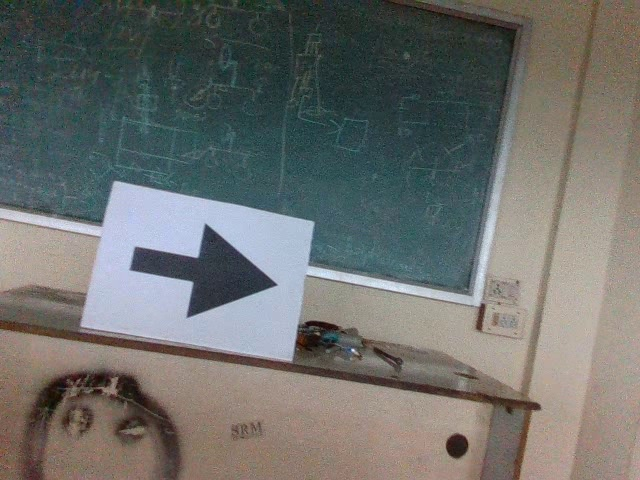Right: (123, 220, 281, 325)
